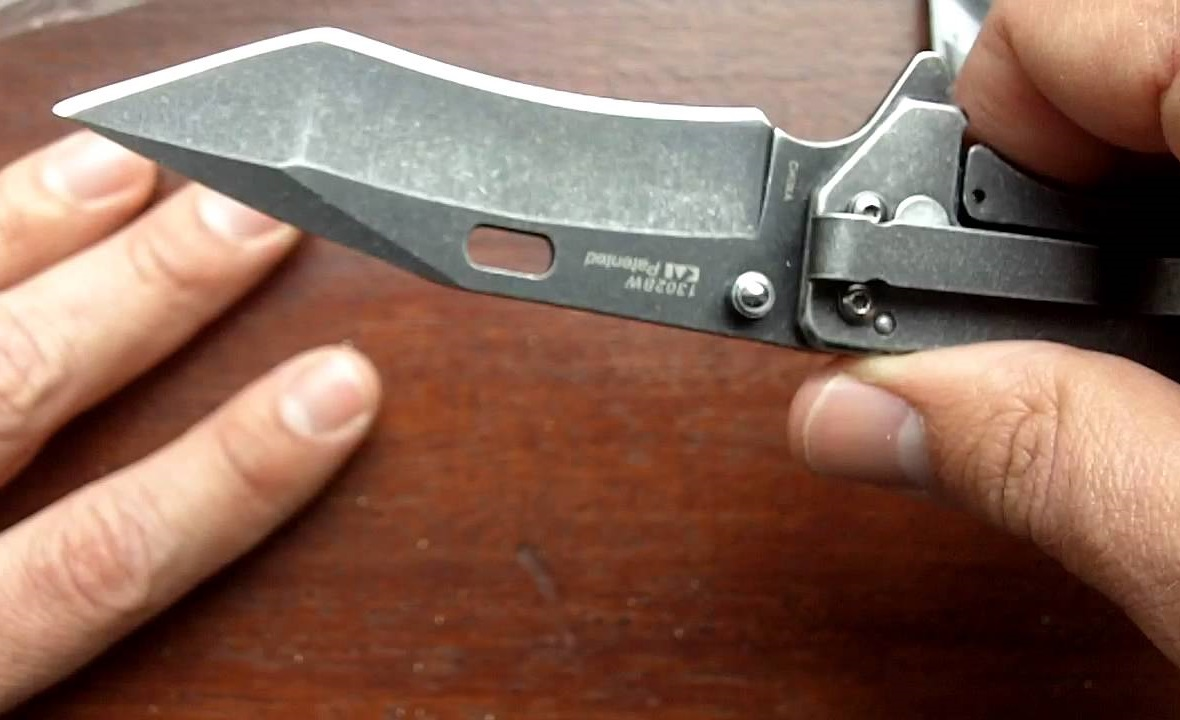knife: (26, 6, 1179, 402)
